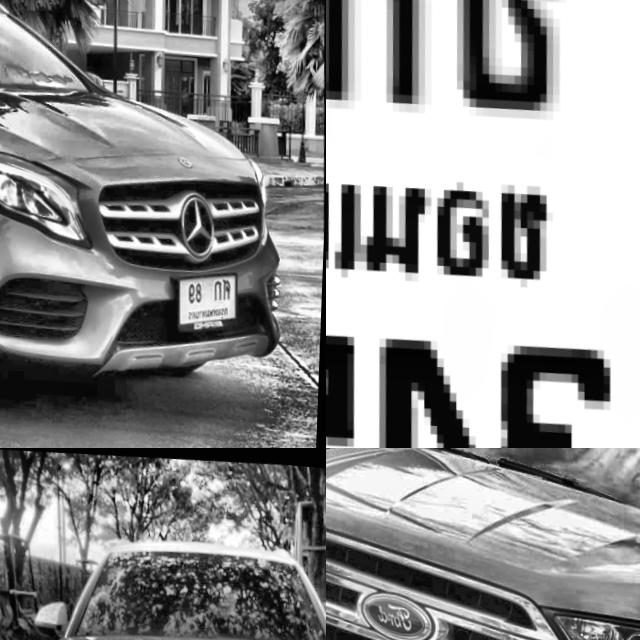license-plate: (326, 0, 640, 448), (175, 256, 243, 326)
